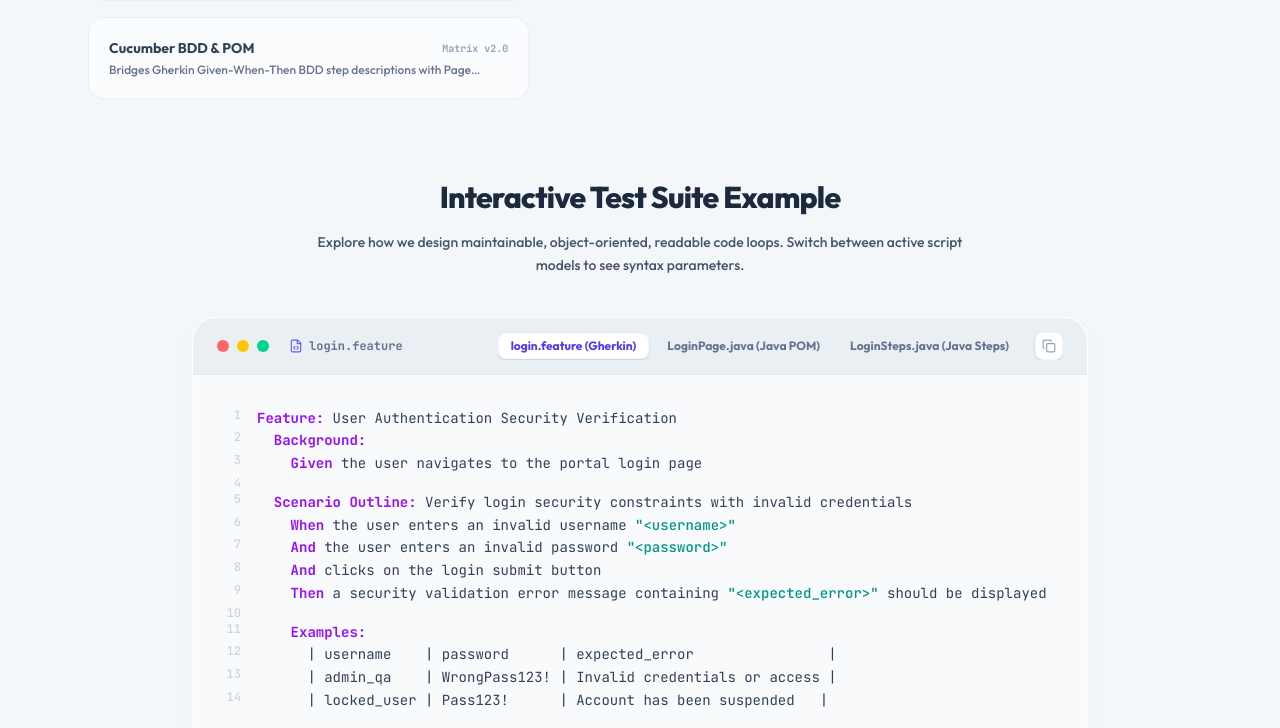
Automation Component › renders Gherkin feature tab in editor by default and toggles between Java source tabs
(page scrolled)
expect the text "User Authentication Security Verification" is shown: met, box [324,408,677,426]
// Switch to LoginPage.java POM tab
Click the button "LoginPage.java (Java POM)": x=744, y=346 [655,334,832,358]
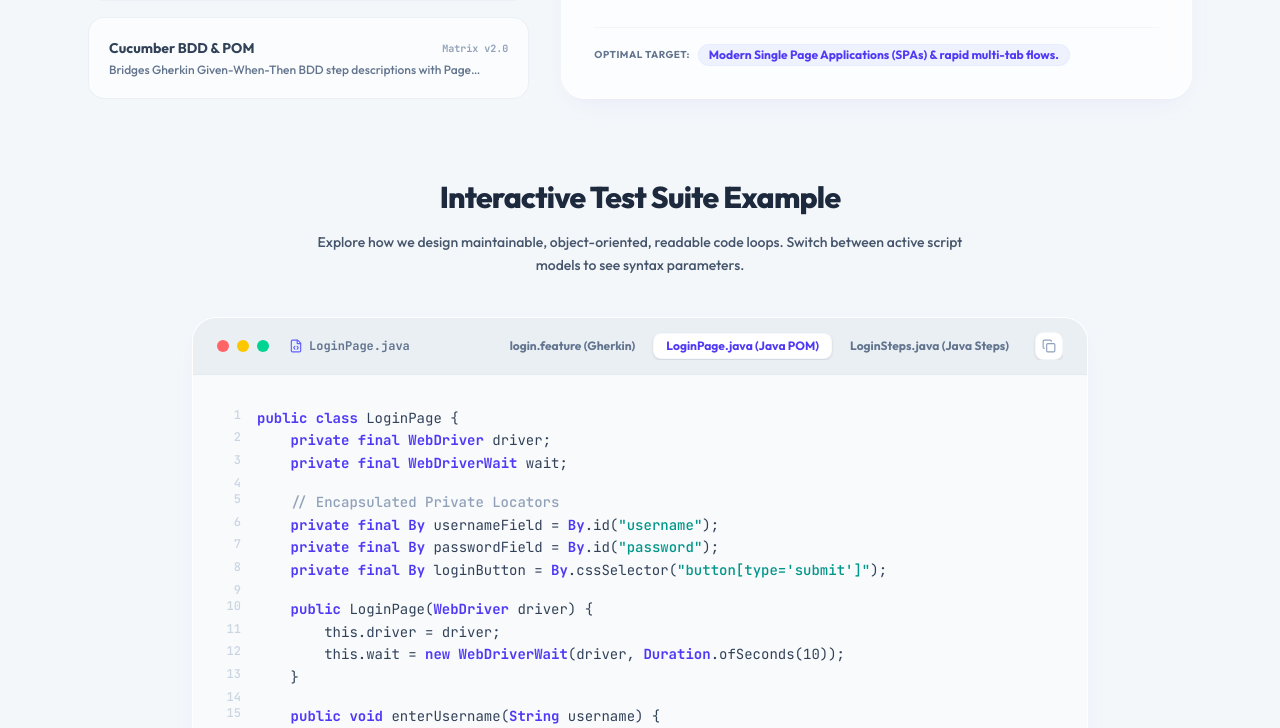
expect the text "LoginPage.java" is shown: met, box [277,338,410,354]
